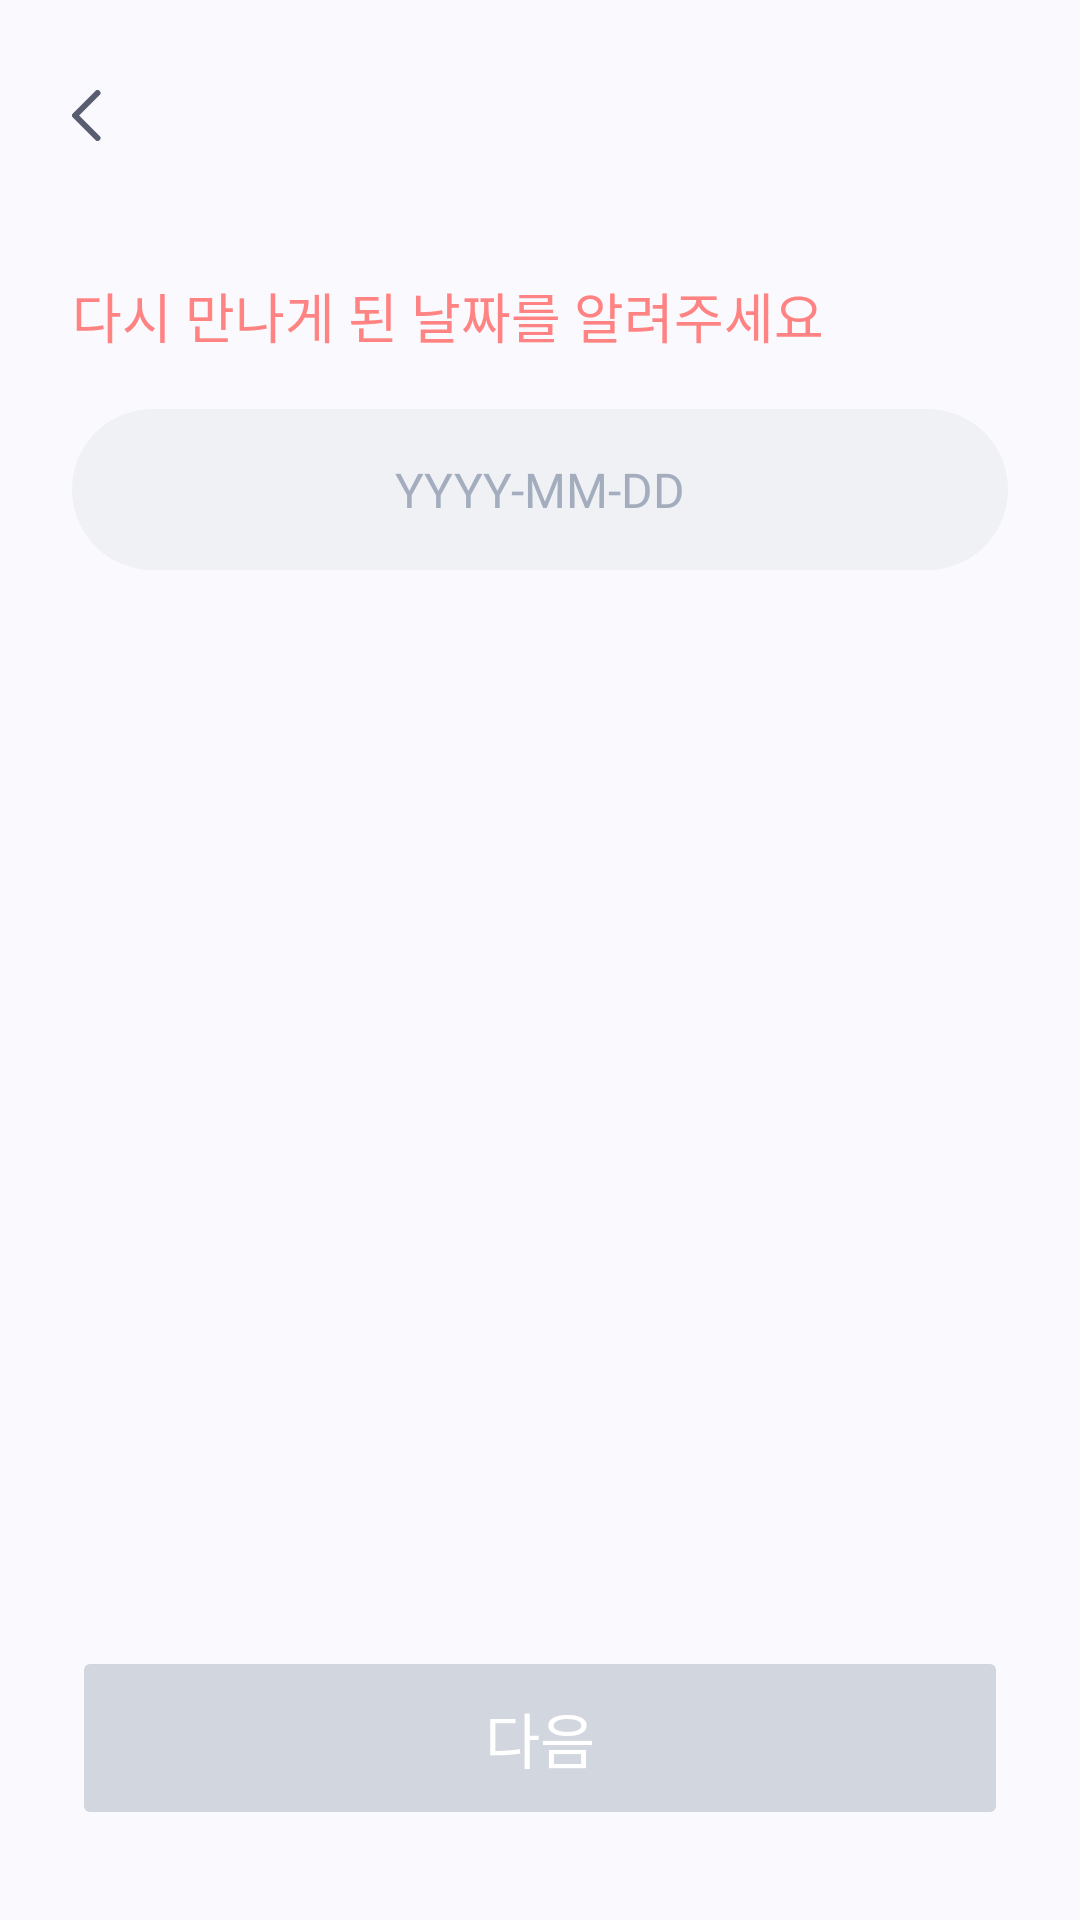

Named icons in this screenshot (1080px×1920px) and their centers, point (x, y):
back: point (86, 115)
